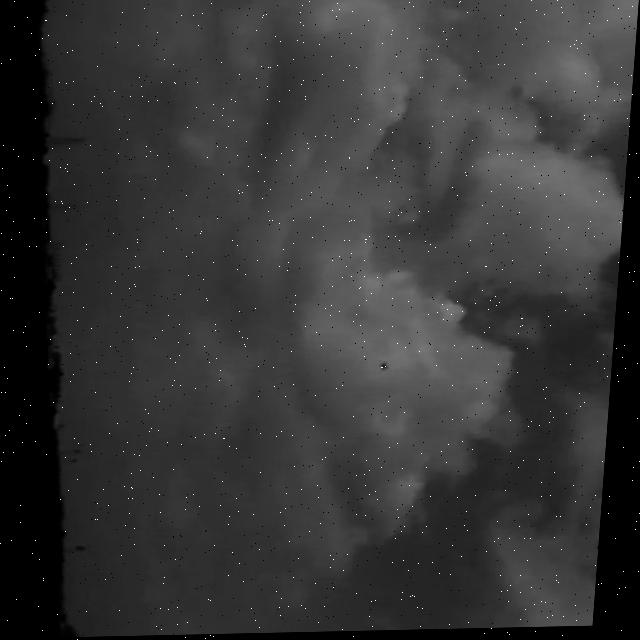drone: (383, 362, 403, 374)
